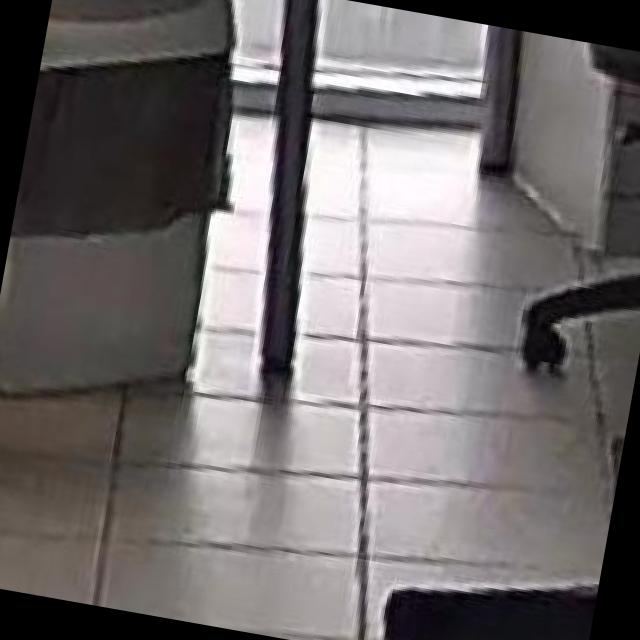Guns: (365, 505, 606, 640)
